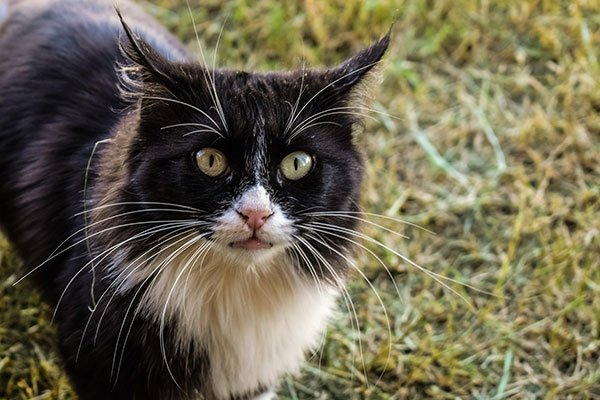Cat: (1, 12, 410, 392)
